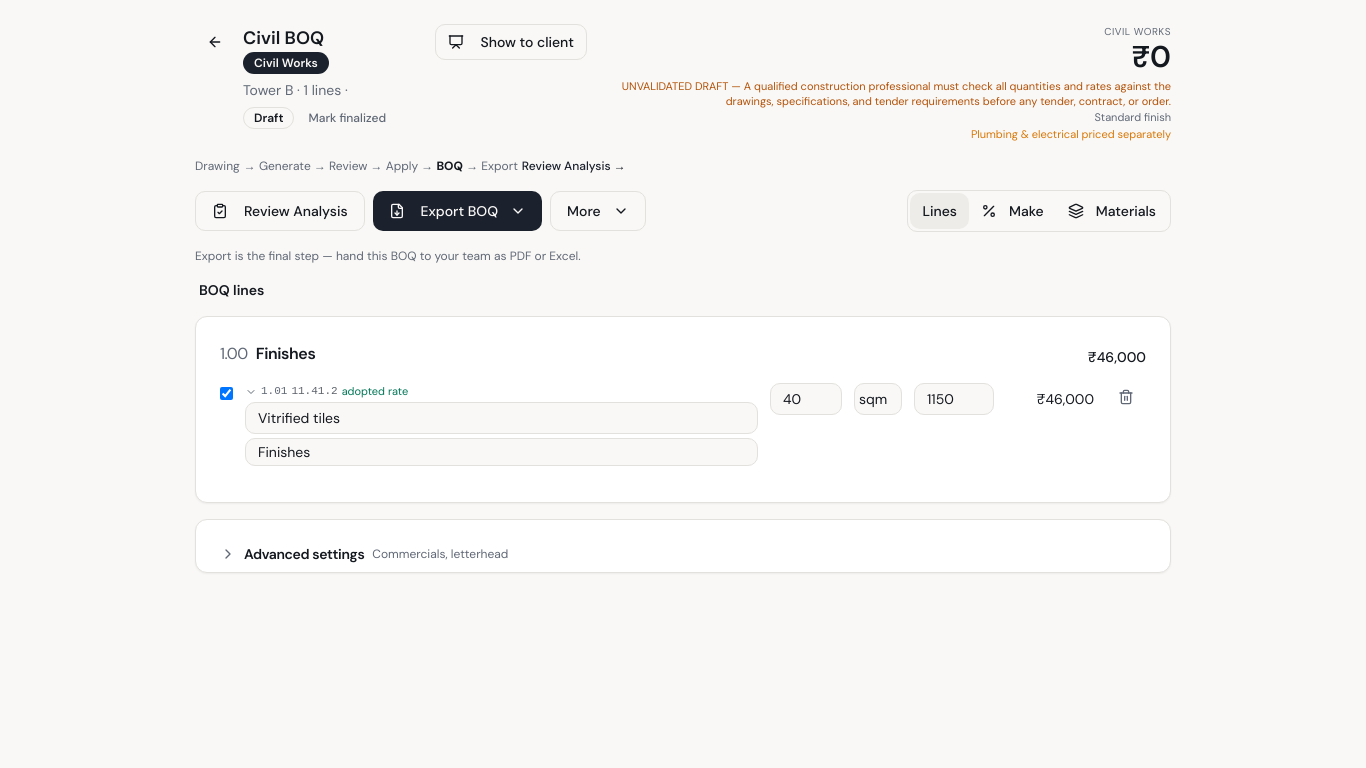
it: OpsBoqBuilder — manual rate edits › asks before replacing an adopted rate; 'Keep adopted rate' writes nothing and restores the field
Expected: the text with test id "rate-provenance-l1" reads "adopted rate", top-left (342, 384), bottom-right (408, 398)
Replace the text in the number field with placeholder "rate" with "1300" at (954,399), box top-left (914, 383), bottom-right (994, 415)
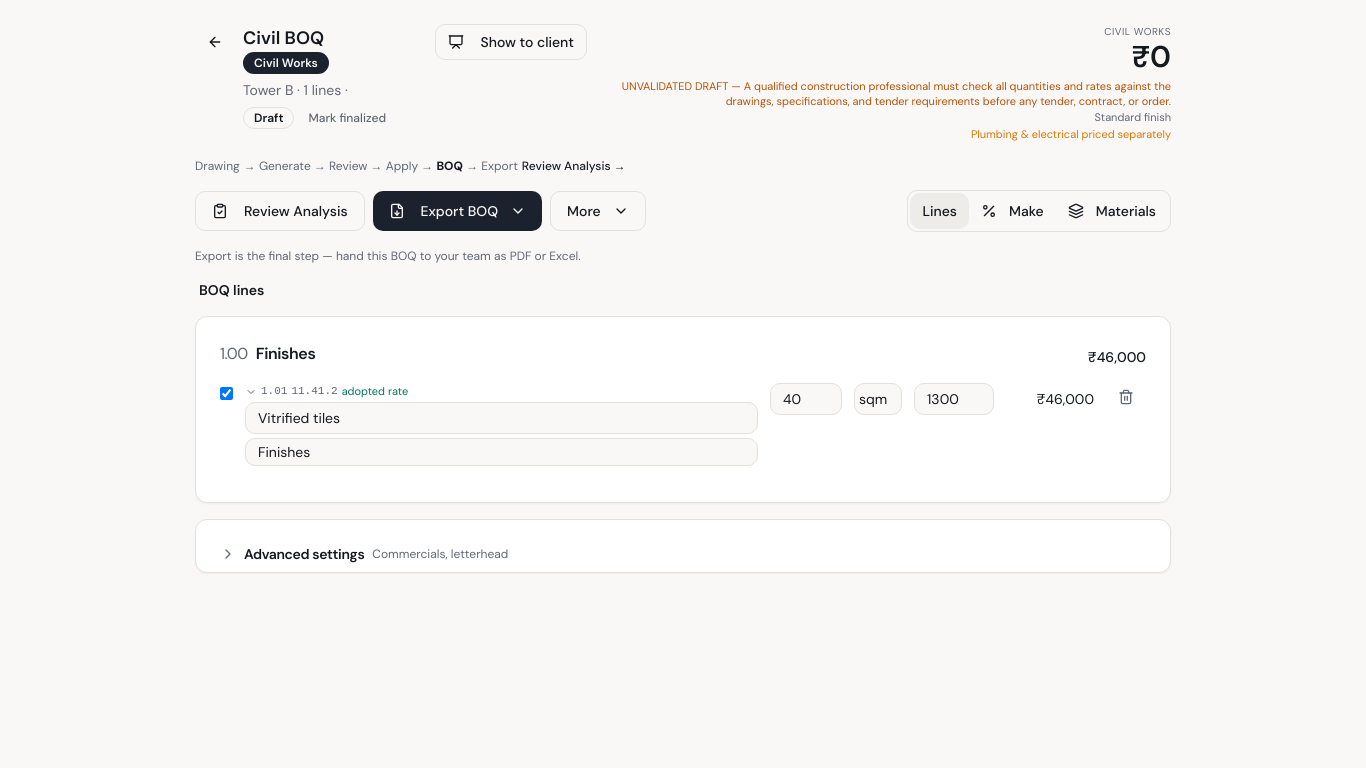
Leave the number field with placeholder "rate", box top-left (914, 383), bottom-right (994, 415)
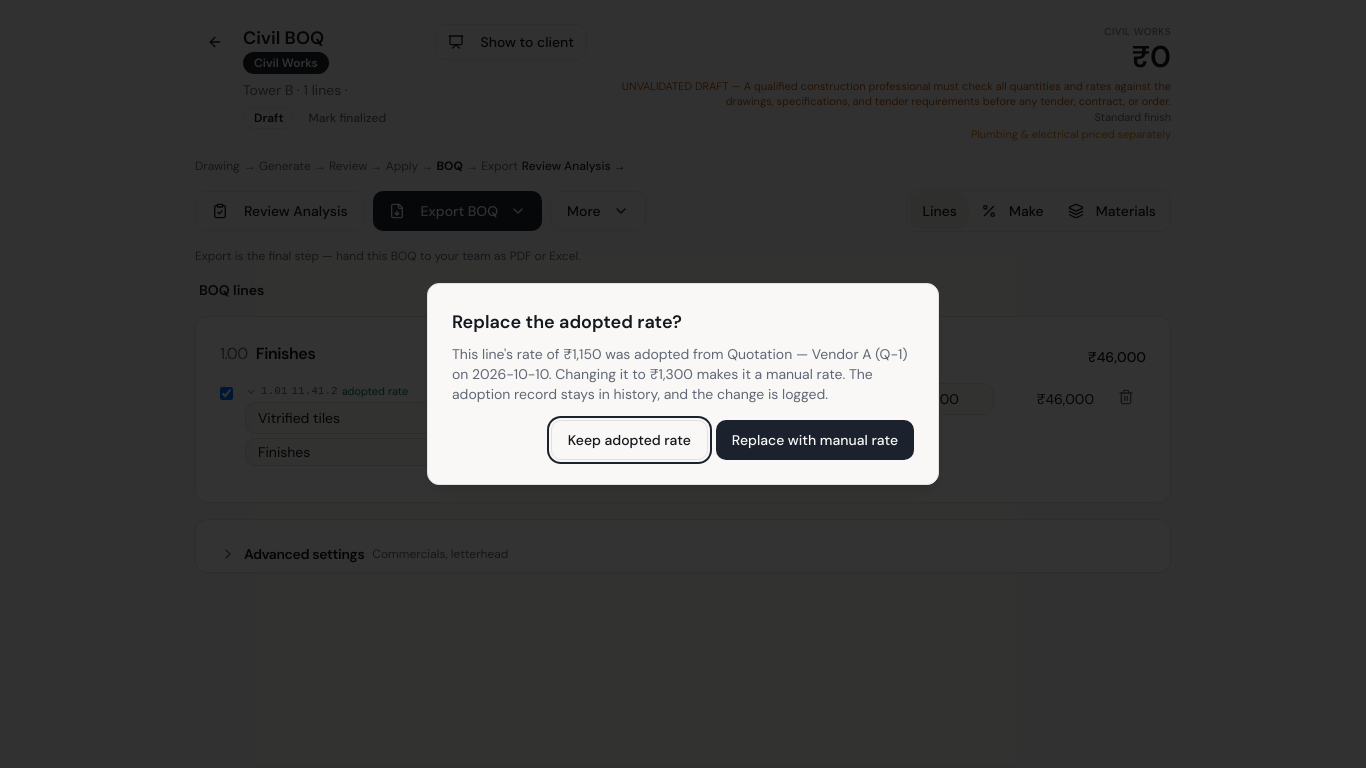
Result: the dialog shows "This line's rate of ₹1,150 was adopted from Quotation — Vendor A (Q-1) on 2026-10-10. Changing it to ₹1,300 makes it a manual rate." at top-left (427, 283), bottom-right (939, 485)
Click the button "Keep adopted rate".
click(629, 440)  # box top-left (551, 420), bottom-right (708, 460)
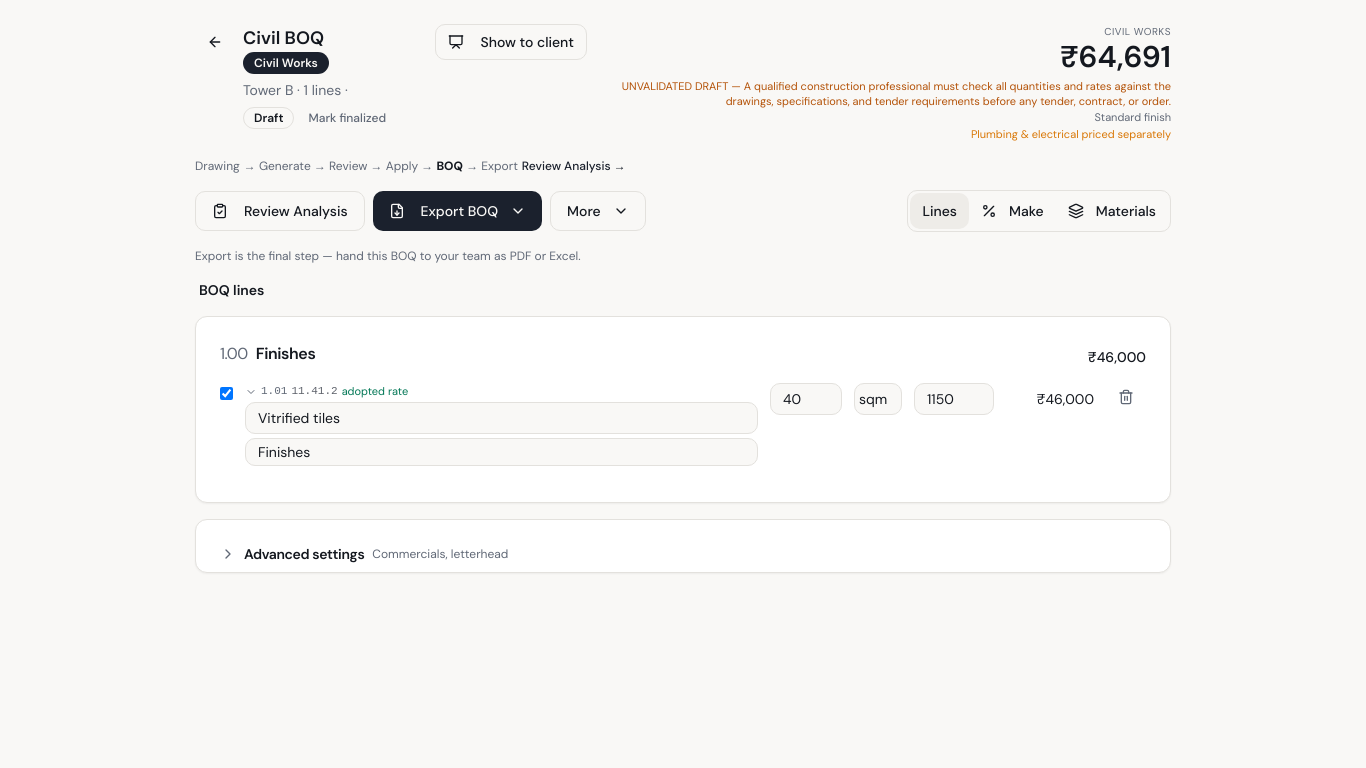
Result: the dialog is gone
Result: the number field with placeholder "rate" holds "1150" at top-left (914, 383), bottom-right (994, 415)
